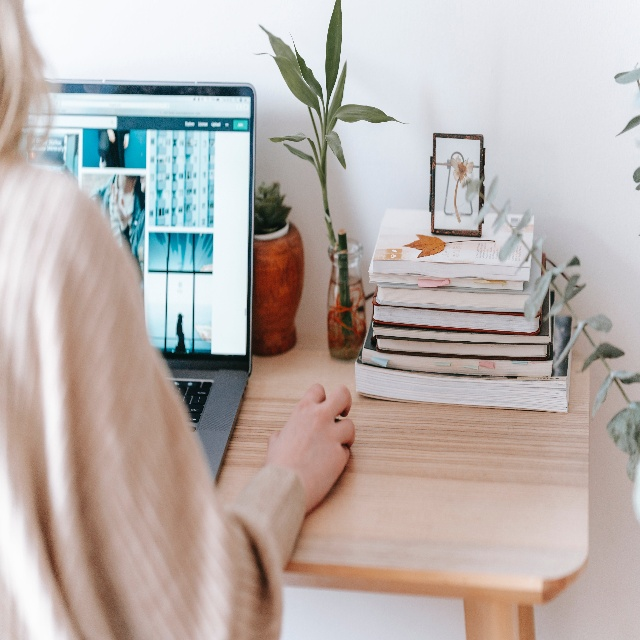Sin_guantes: (266, 383, 356, 517)
